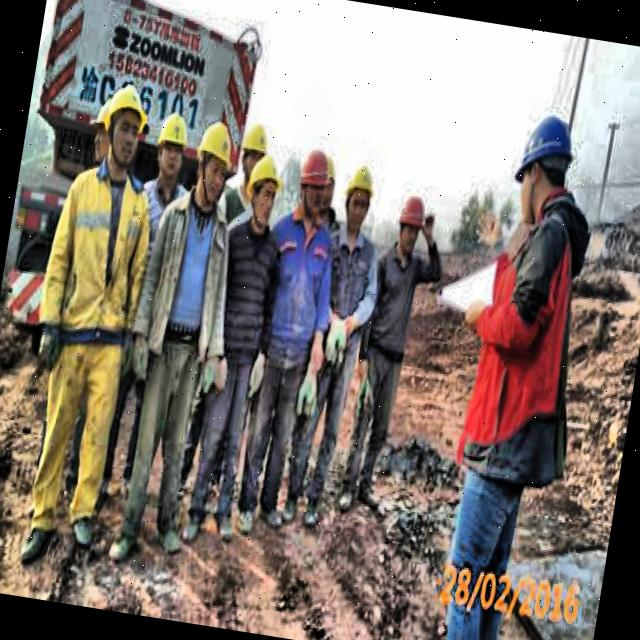helmet: (502, 100, 587, 236), (98, 76, 155, 173), (190, 114, 239, 205), (290, 142, 340, 226), (148, 104, 196, 188), (335, 156, 380, 239), (244, 148, 286, 224), (232, 122, 271, 188), (394, 190, 434, 252), (87, 94, 117, 168)
